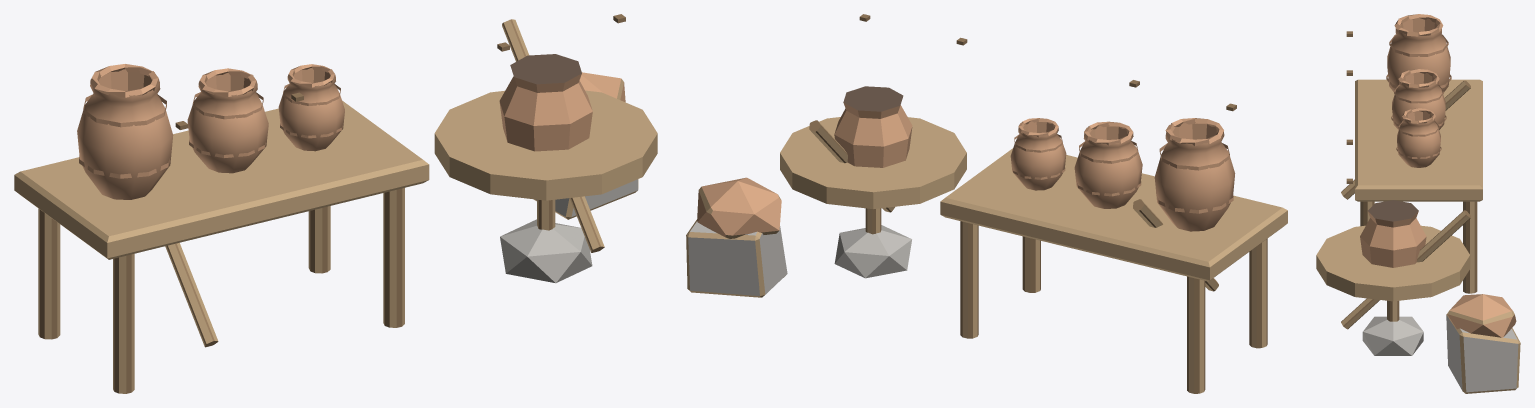
The model's file is pottery_bench.glb.
The picture shows the model from 3 angles, left to right: view 1: azimuth 30°, elevation 25°; view 2: azimuth 150°, elevation 25°; view 3: azimuth 270°, elevation 25°; orthographic projection. The views are drawn at different scales.
Parts seen in each view (by area): view 1: pottery_bench; view 2: pottery_bench; view 3: pottery_bench.
Boxes of the visible parts, bbox=[...] form: pottery_bench: bbox=[14, 14, 657, 393]; pottery_bench: bbox=[686, 14, 1287, 393]; pottery_bench: bbox=[1316, 14, 1520, 393].
Size of the model in its own units: 1.9 by 0.816 by 0.7966.
